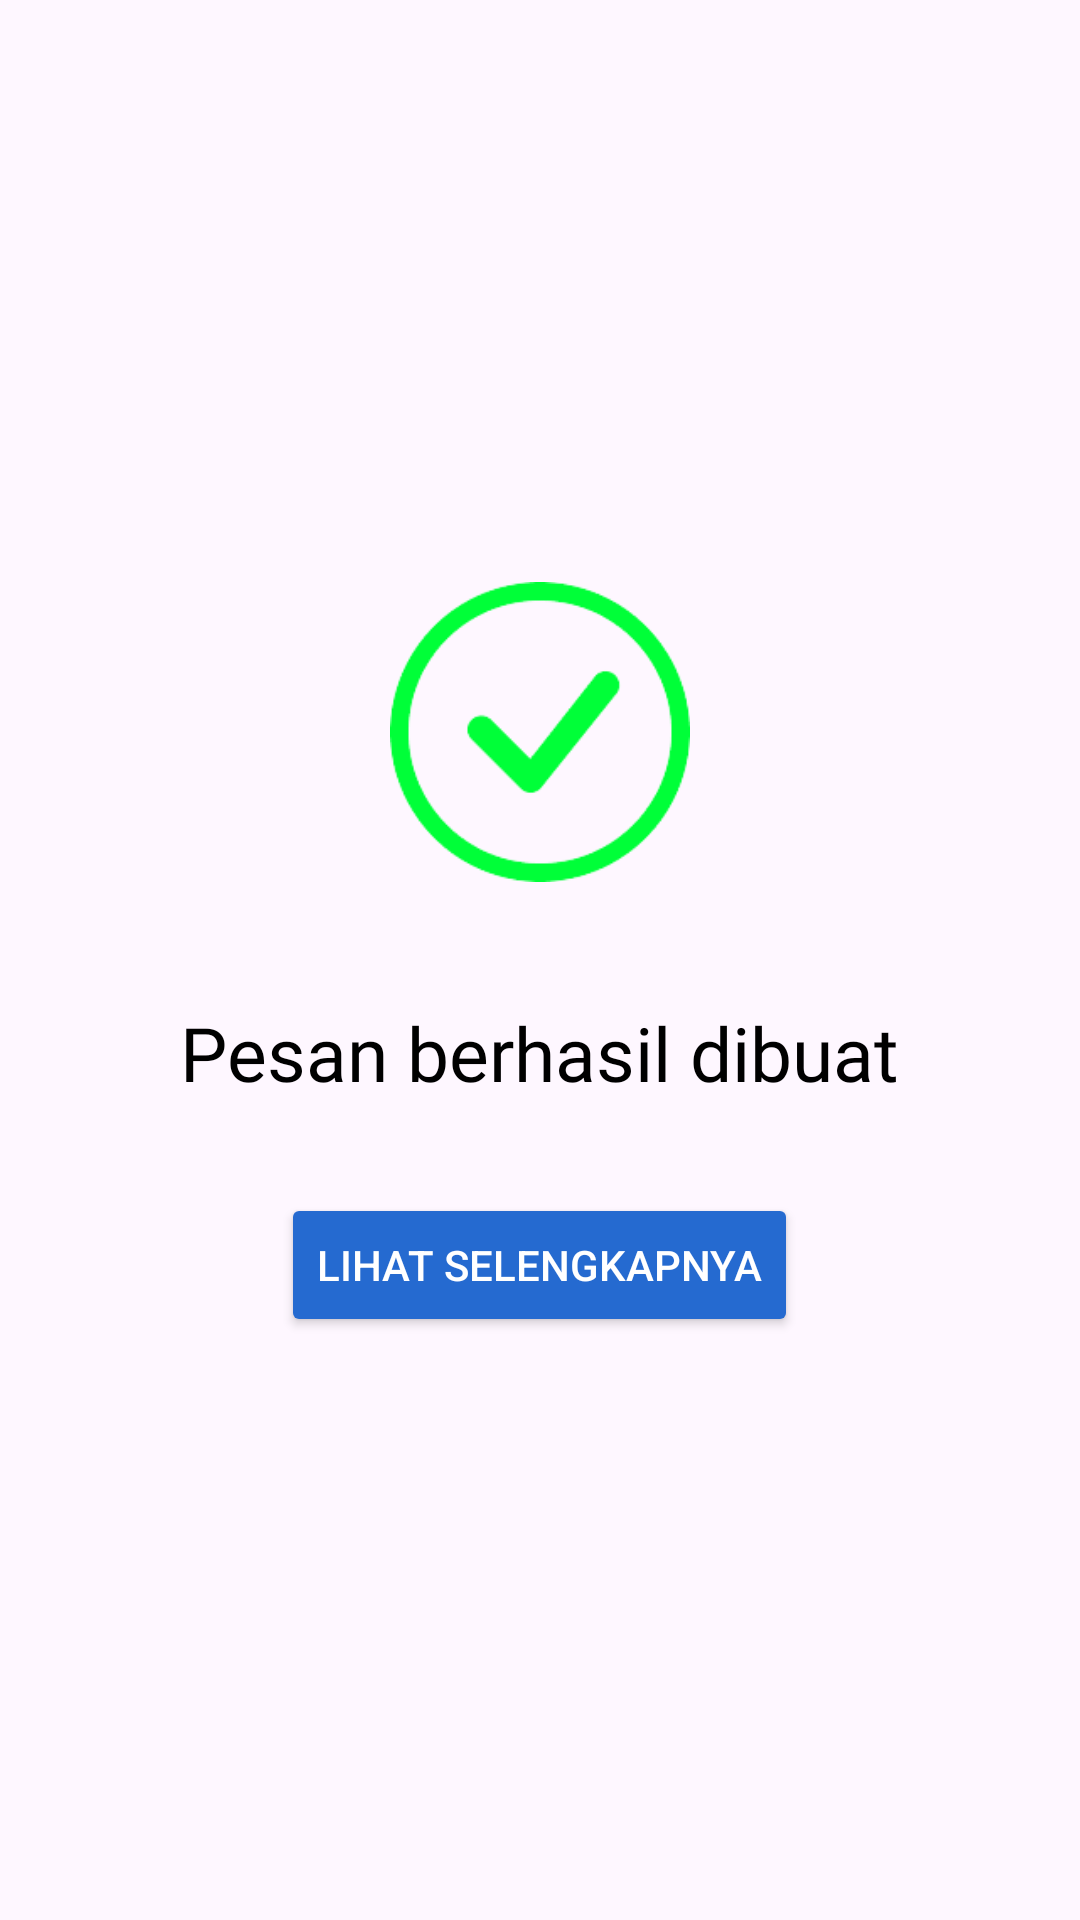

Locate icon controls on the screen. Image size 1080x1920, boxes as (x1, y1, x2, y2).
success: (390, 582, 690, 882)
